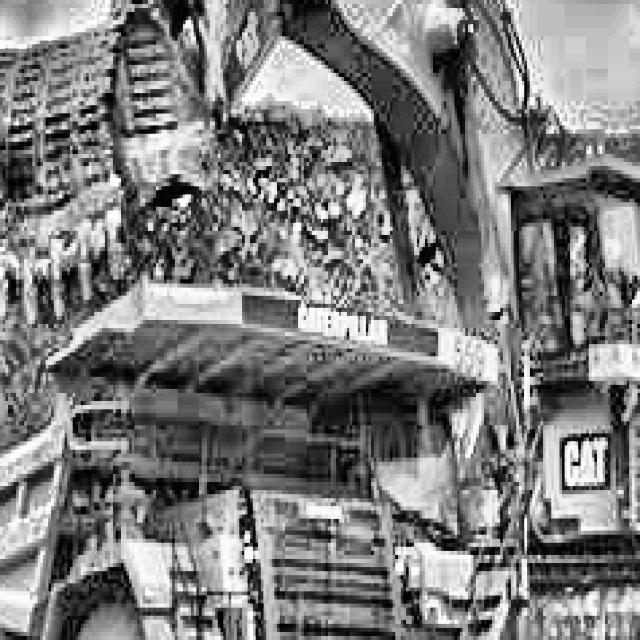dump_truck: (0, 275, 500, 640)
excavator: (0, 0, 640, 640)
